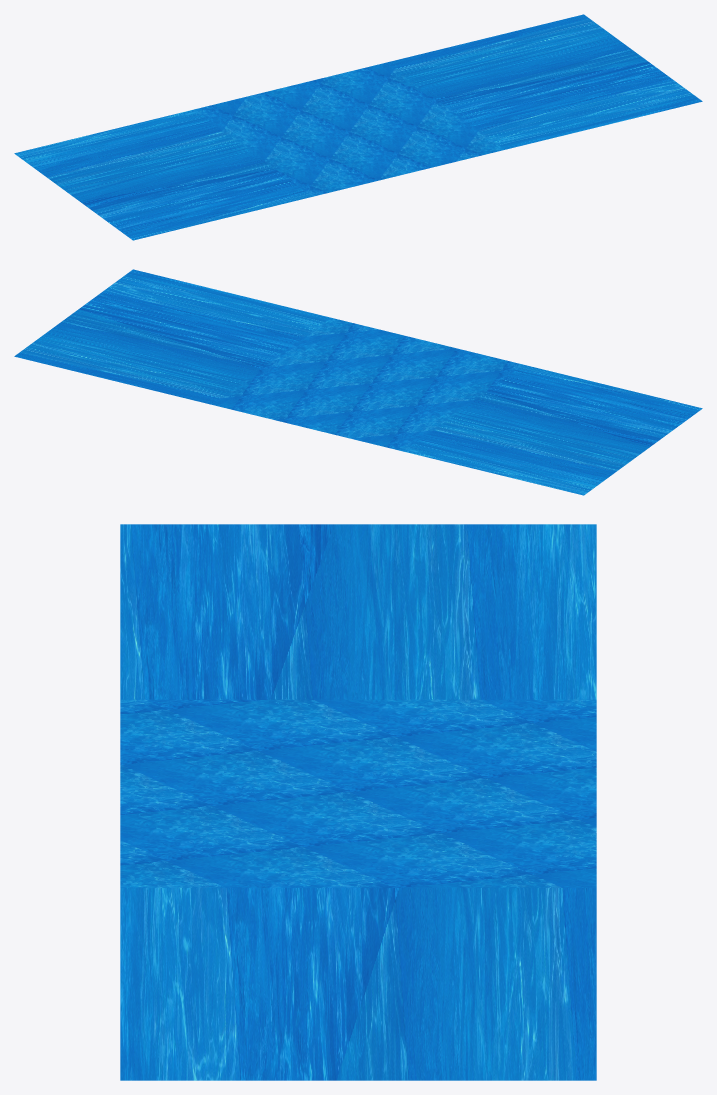
The model's file is water.obj.
3 renders of one model, top to bottom at view 1: azimuth 30°, elevation 25°; view 2: azimuth 150°, elevation 25°; view 3: azimuth 270°, elevation 25°, orthographic. The views are drawn at different scales.
Parts seen in each view (by area): view 1: Plane; view 2: Plane; view 3: Plane.
Boxes of the visible parts, x1=… form: Plane: x1=14, y1=14, x2=702, y2=240; Plane: x1=14, y1=269, x2=702, y2=495; Plane: x1=120, y1=524, x2=596, y2=1080.
Bounding box in the file's own units: 83.47 × 0 × 30.21.
1 material, 1 textured.
